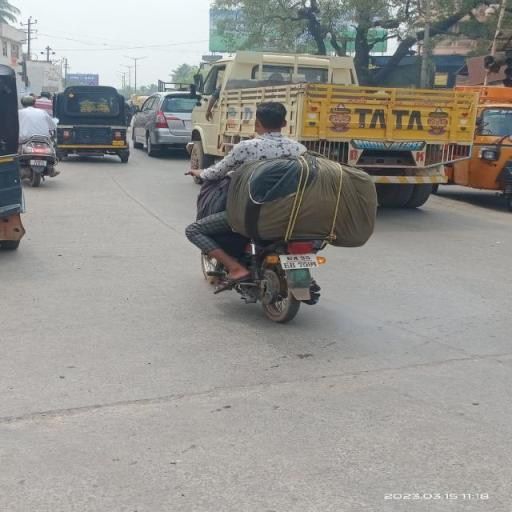bike: (182, 100, 363, 322)
numberplate: (276, 254, 322, 270)
withouthelmet: (257, 102, 285, 133)
